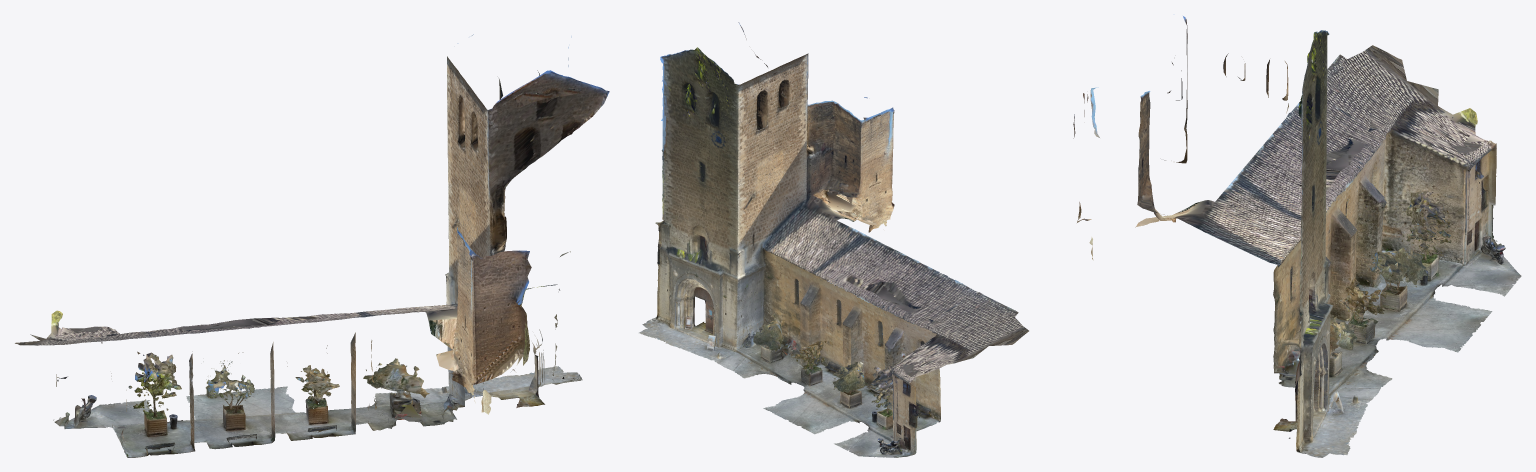
File: medium.glb
The picture shows the model from 3 angles, left to right: view 1: azimuth 30°, elevation 25°; view 2: azimuth 150°, elevation 25°; view 3: azimuth 270°, elevation 25°; orthographic projection. The views are drawn at different scales.
Visible parts, largest first — view 1: medium.018; view 2: medium.018; view 3: medium.018.
Part boxes in pixels (left/top/right/bottom): medium.018: left=15, top=34, right=609, bottom=457; medium.018: left=639, top=22, right=1028, bottom=457; medium.018: left=1073, top=16, right=1521, bottom=457.
Size of the model in its own units: 36.18 by 25.25 by 26.35.
Materials: 1 (1 with a texture image).
